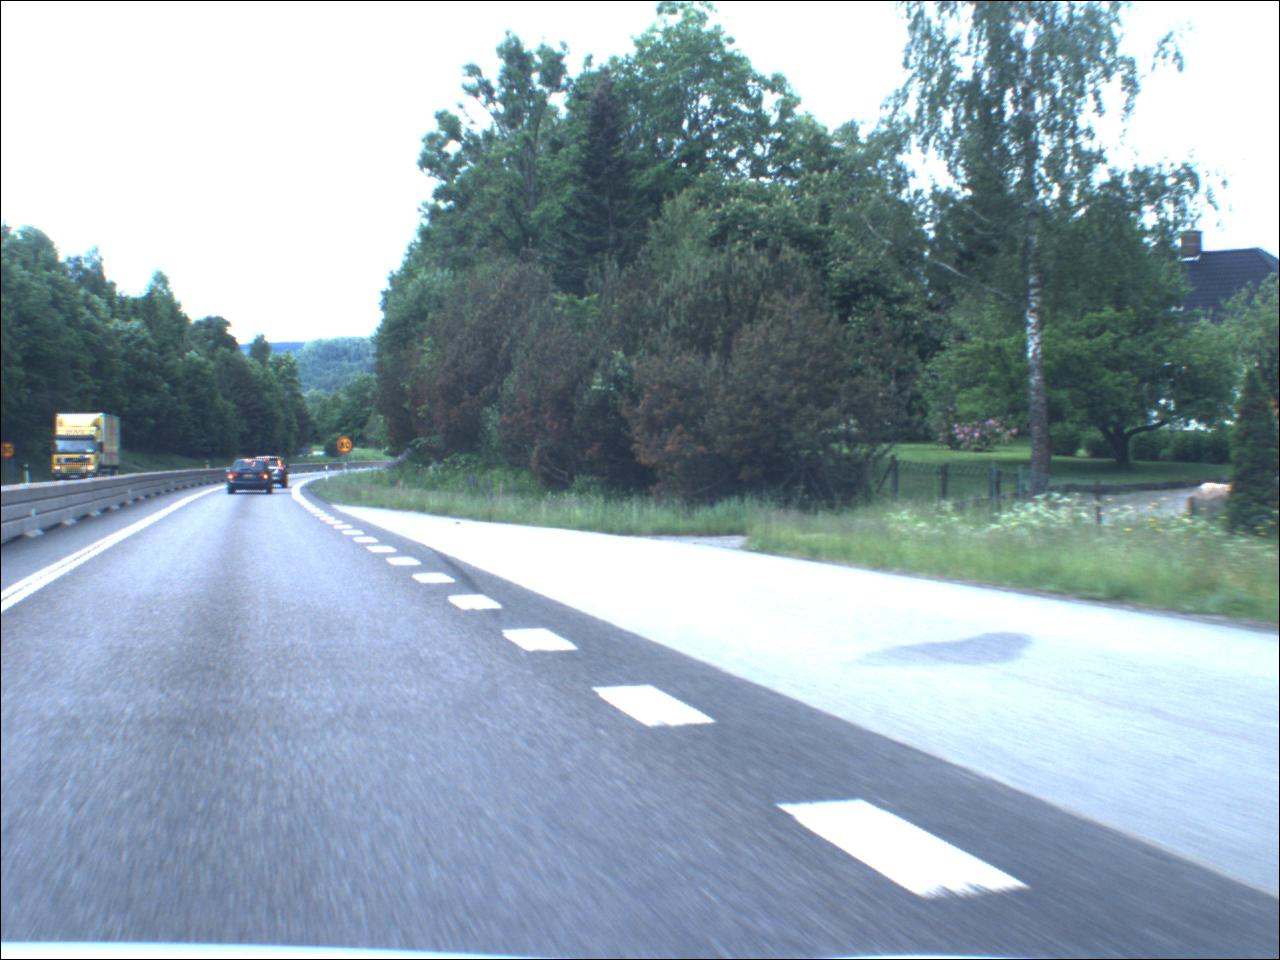80_SIGN: (338, 438, 355, 456), (1, 443, 15, 462)
